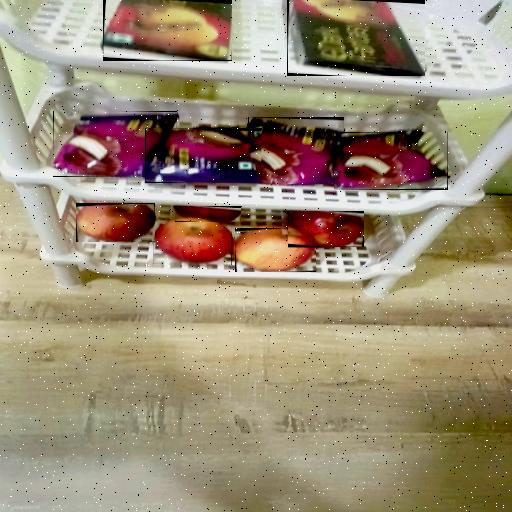Apple: (153, 220, 232, 266), (235, 228, 316, 272), (76, 203, 155, 242), (288, 211, 364, 247), (175, 206, 241, 222)
Choco Fills: (287, 0, 425, 76), (103, 0, 232, 61)
Choco Pie: (53, 111, 177, 177), (334, 132, 448, 190), (248, 117, 344, 184), (146, 128, 261, 183)
